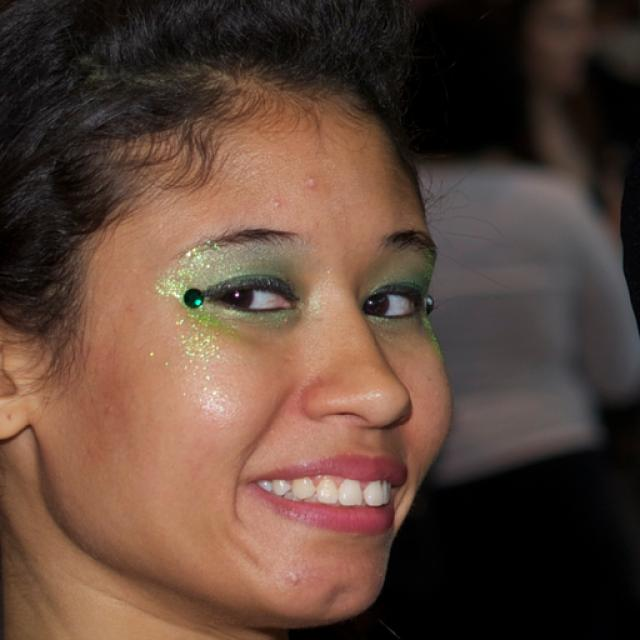Acne: (281, 561, 306, 588), (295, 170, 324, 191), (268, 192, 288, 214)
